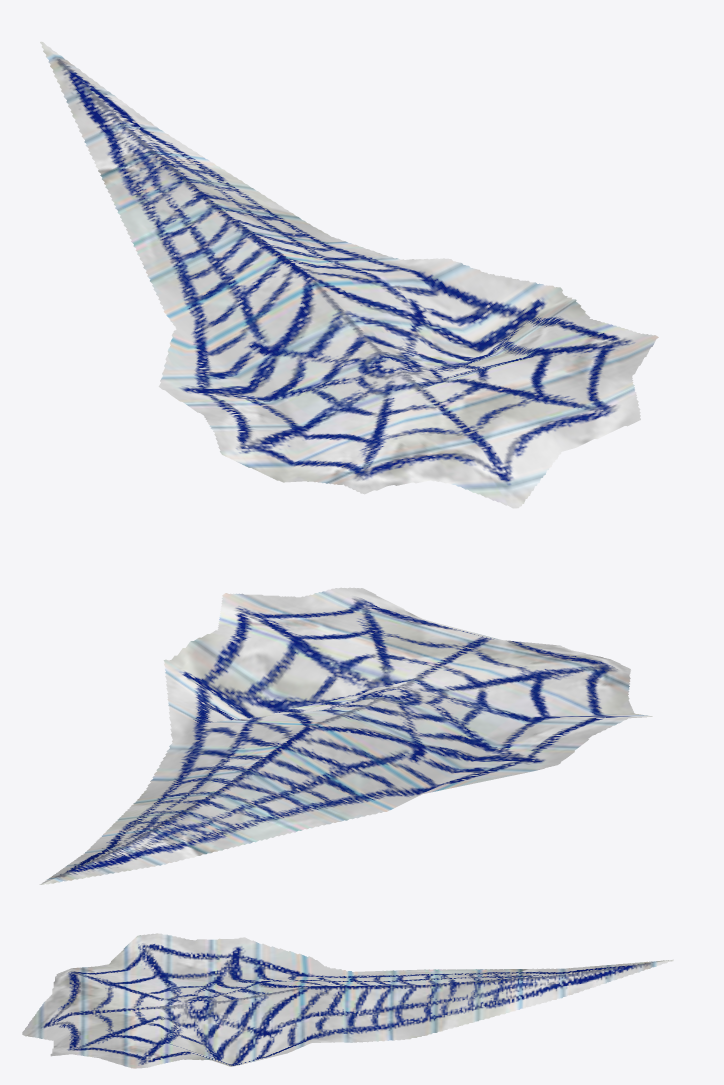
Rendered from WebProjectile.fbx.
3 views of the same model, one above another, from view 1: azimuth 30°, elevation 25°; view 2: azimuth 150°, elevation 25°; view 3: azimuth 270°, elevation 25° (orthographic). The views are drawn at different scales.
Parts seen in each view (by area): view 1: Plane; view 2: Plane; view 3: Plane.
Boxes of the visible parts, x1=… form: Plane: x1=40, y1=41, x2=658, y2=508; Plane: x1=39, y1=587, x2=652, y2=884; Plane: x1=22, y1=933, x2=673, y2=1068.
Size of the model in its own units: 97.46 by 26.43 by 195.
